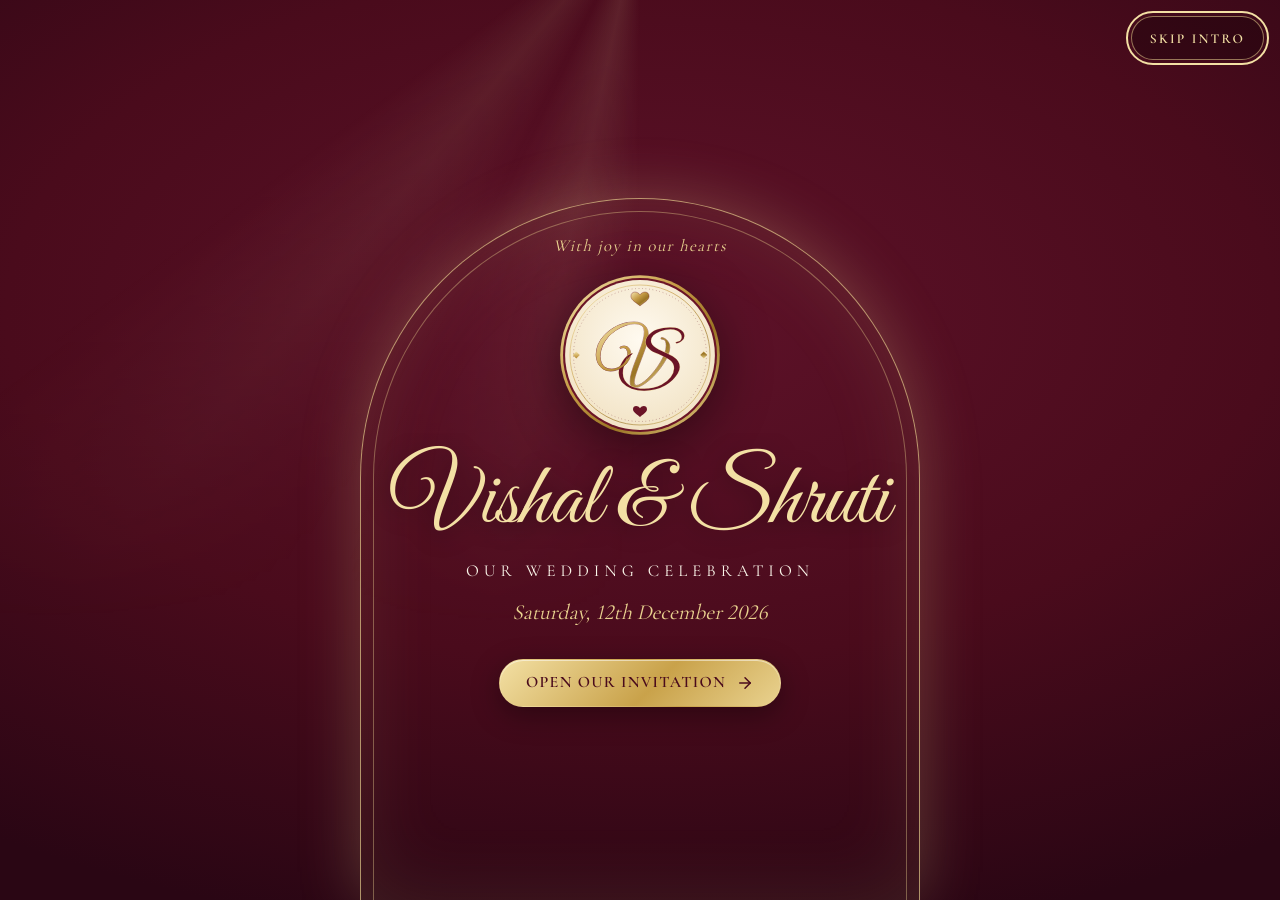
opening screen › Skip intro removes the overlay immediately
Click the button "Skip intro": (1197, 38) [1131, 16, 1264, 60]
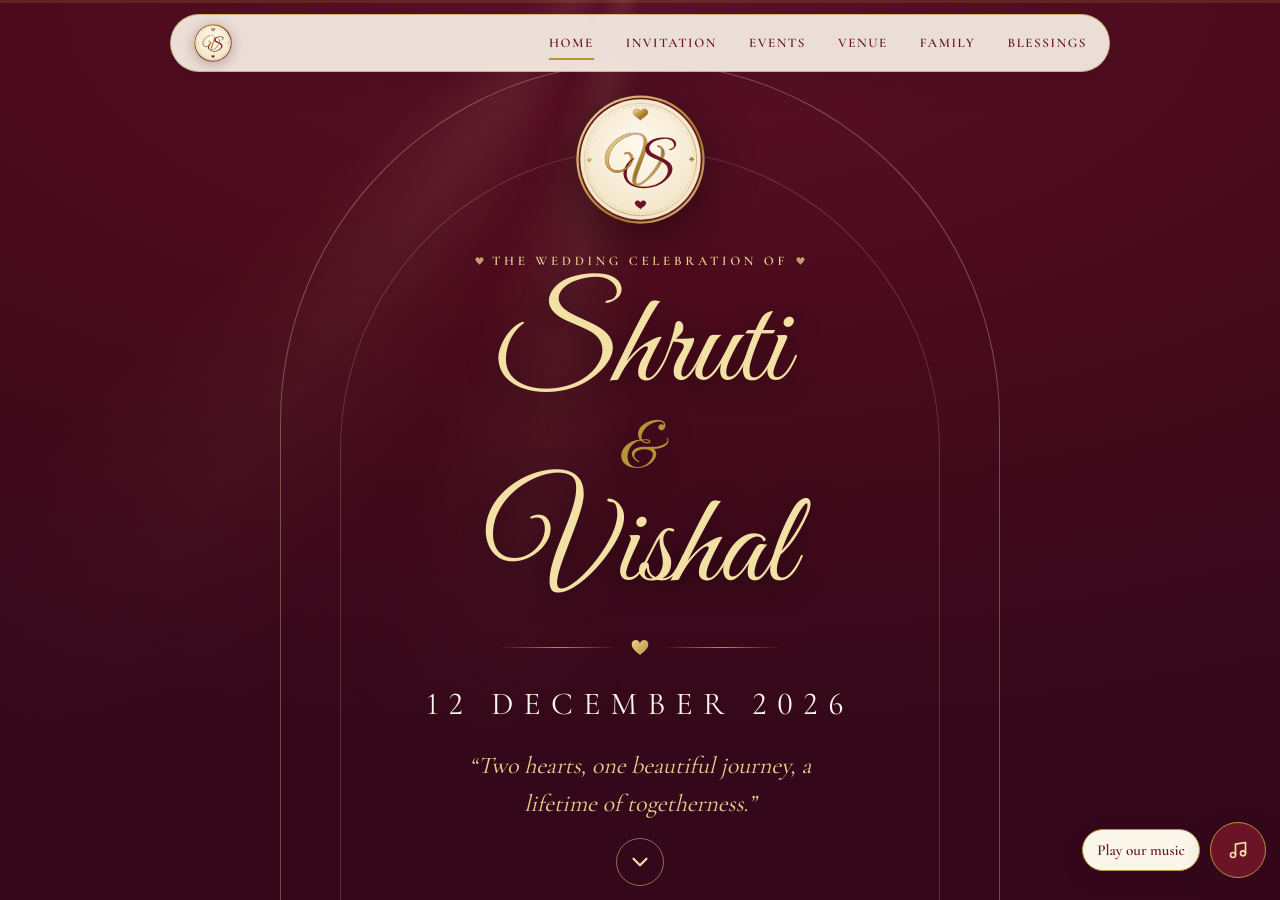
Result: the dialog is gone
